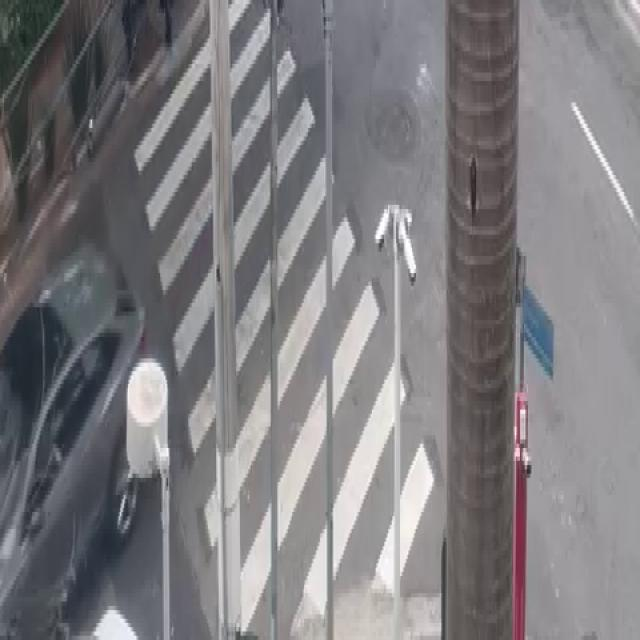car: (12, 221, 150, 632)
